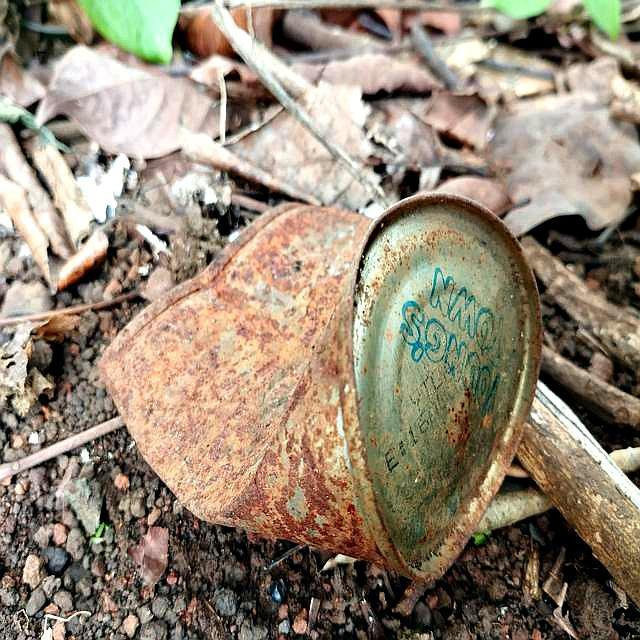Non-biodegradable: (93, 191, 547, 589)
